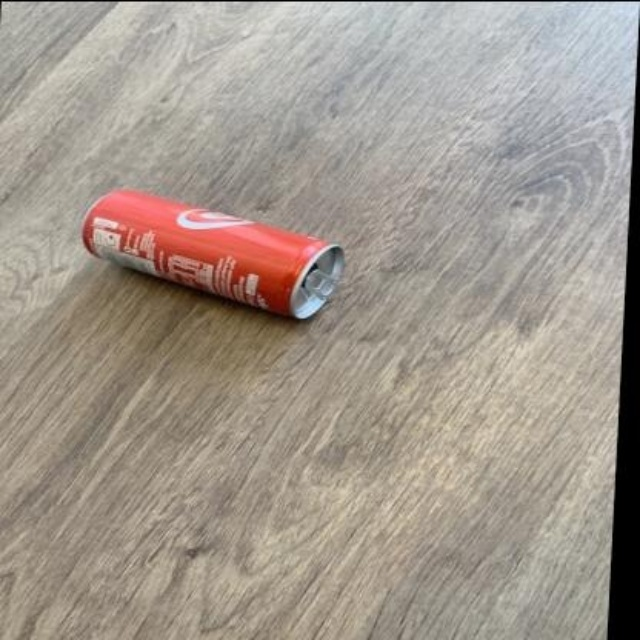trash: (83, 189, 343, 317)
